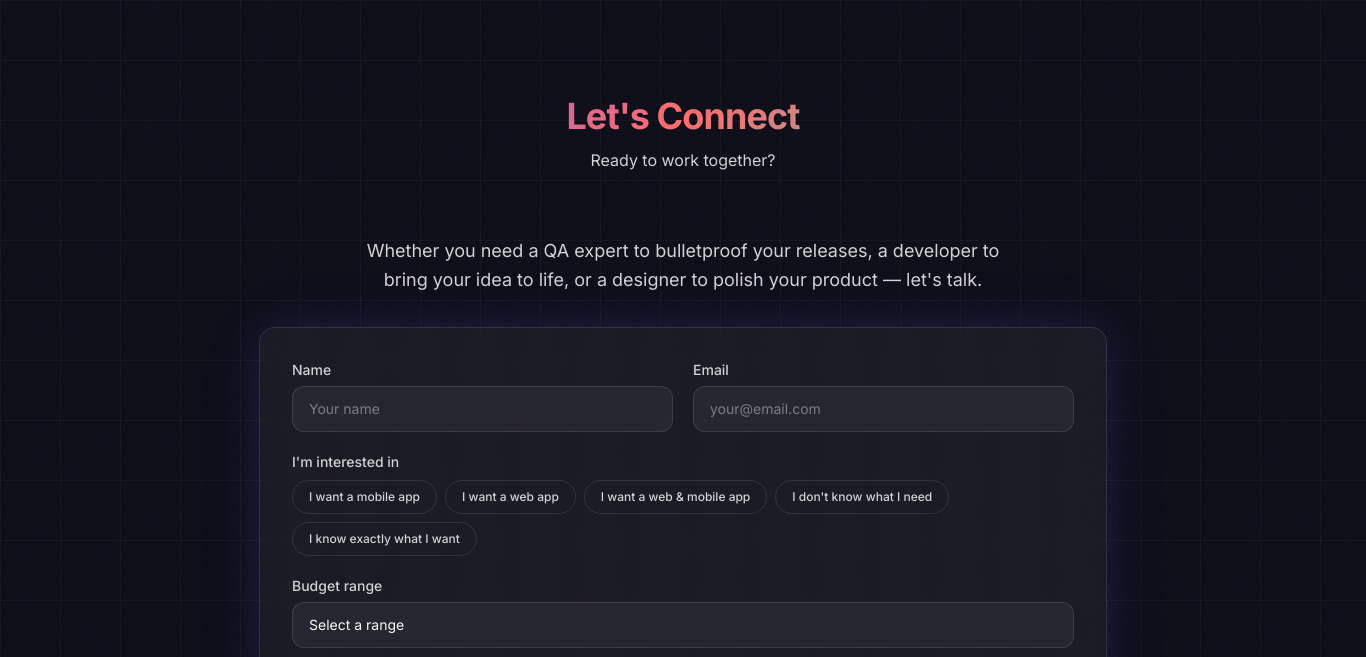
Scenario: Contact › clicking 'I know exactly what I want' reveals detailed service options
expect the text "QA / Test Automation" is not shown: met
Click the button "I know exactly what I want".
click(384, 538)  # box [292,522,477,556]
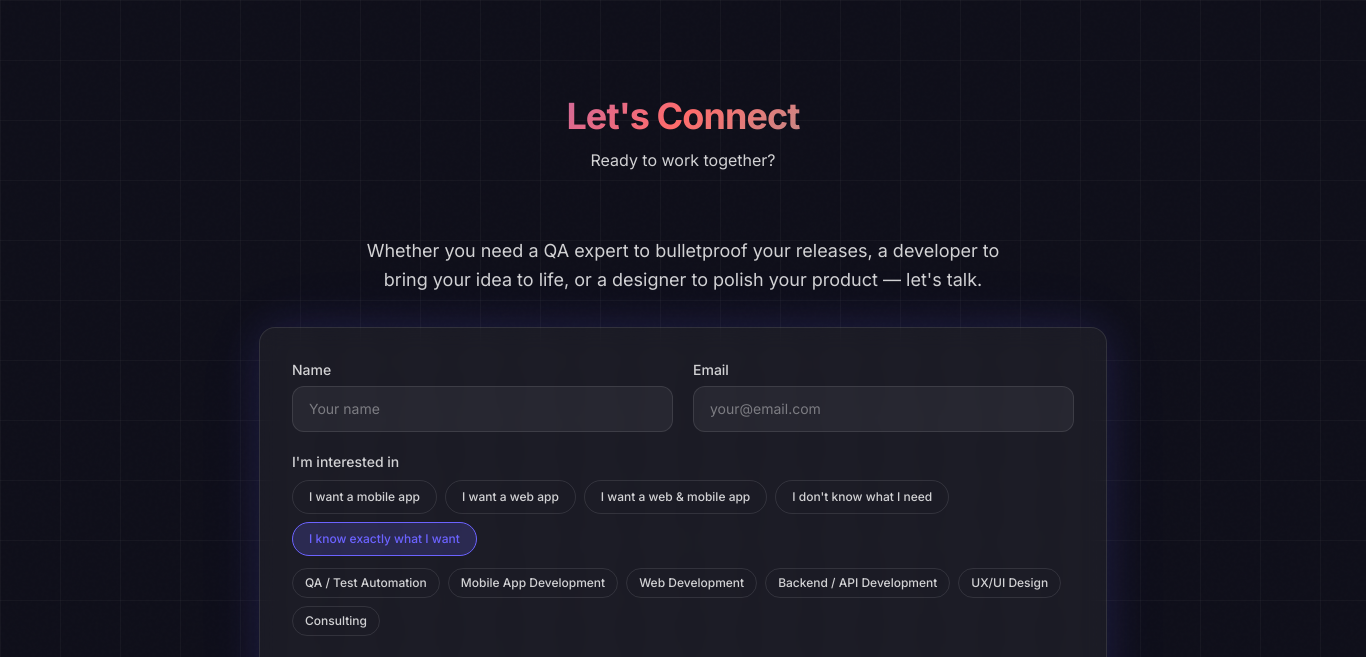
expect the button "QA / Test Automation" is shown: met, box [292,568,440,598]
expect the button "Web Development" is shown: met, box [626,568,757,598]
expect the button "UX/UI Design" is shown: met, box [958,568,1061,598]
